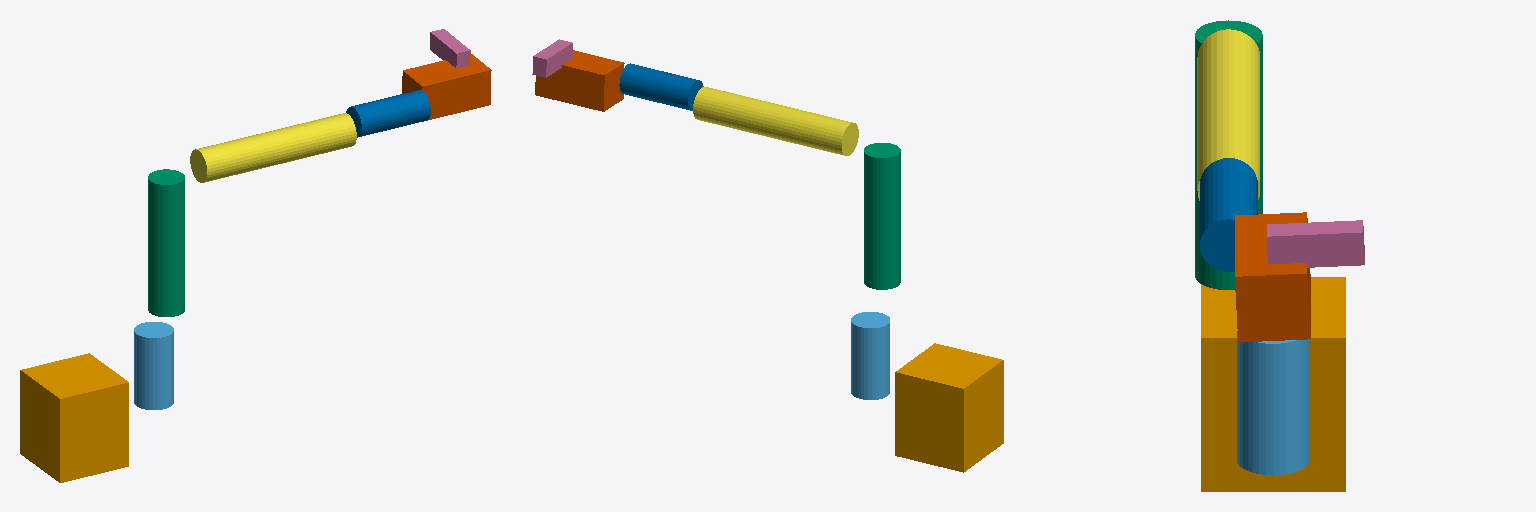
URDF robot description (so101_sim):
<?xml version="1.0" encoding="utf-8"?>
<!-- Simplified SO-101 URDF for PyBullet simulation.
     Uses primitive collision/visual shapes only — no mesh files required.
     Kinematic parameters (joint origins, axes, limits) match so101.urdf exactly.
     Inertia parameters are simplified approximations for simulation.
-->
<robot name="so101_sim">

  <!-- base_link: fixed to world -->
  <link name="base_link">
    <inertial>
      <origin xyz="0.014 0 0.033" rpy="0 0 0"/>
      <mass value="0.147"/>
      <inertia ixx="0.000115" ixy="0" ixz="0" iyy="0.000136" iyz="0" izz="0.000130"/>
    </inertial>
    <visual>
      <origin xyz="0 0 0.035" rpy="0 0 0"/>
      <geometry><box size="0.06 0.06 0.07"/></geometry>
    </visual>
    <collision>
      <origin xyz="0 0 0.035" rpy="0 0 0"/>
      <geometry><box size="0.06 0.06 0.07"/></geometry>
    </collision>
  </link>

  <!-- shoulder_link -->
  <link name="shoulder_link">
    <inertial>
      <origin xyz="-0.031 0 -0.025" rpy="0 0 0"/>
      <mass value="0.100"/>
      <inertia ixx="8.4e-05" ixy="0" ixz="0" iyy="8.1e-05" iyz="0" izz="2.4e-05"/>
    </inertial>
    <visual>
      <origin xyz="-0.030 0 0" rpy="0 0 0"/>
      <geometry><cylinder radius="0.015" length="0.06"/></geometry>
    </visual>
    <collision>
      <origin xyz="-0.030 0 0" rpy="0 0 0"/>
      <geometry><cylinder radius="0.015" length="0.06"/></geometry>
    </collision>
  </link>

  <!-- Joint from base to shoulder (shoulder_pan) -->
  <joint name="shoulder_pan" type="revolute">
    <origin xyz="0.0388 0 0.0624" rpy="3.14159 0 -3.14159"/>
    <parent link="base_link"/>
    <child link="shoulder_link"/>
    <axis xyz="0 0 1"/>
    <limit effort="10" velocity="10" lower="-1.91986" upper="1.91986"/>
  </joint>

  <!-- upper_arm_link -->
  <link name="upper_arm_link">
    <inertial>
      <origin xyz="-0.090 -0.008 0.018" rpy="0 0 0"/>
      <mass value="0.103"/>
      <inertia ixx="4.1e-05" ixy="0" ixz="0" iyy="0.000147" iyz="0" izz="0.000142"/>
    </inertial>
    <visual>
      <origin xyz="-0.055 0 0" rpy="0 1.5708 0"/>
      <geometry><cylinder radius="0.014" length="0.11"/></geometry>
    </visual>
    <collision>
      <origin xyz="-0.055 0 0" rpy="0 1.5708 0"/>
      <geometry><cylinder radius="0.014" length="0.11"/></geometry>
    </collision>
  </link>

  <!-- Joint from shoulder to upper_arm (shoulder_lift) -->
  <joint name="shoulder_lift" type="revolute">
    <origin xyz="-0.0304 -0.0183 -0.0542" rpy="-1.5708 -1.5708 0"/>
    <parent link="shoulder_link"/>
    <child link="upper_arm_link"/>
    <axis xyz="0 0 1"/>
    <limit effort="10" velocity="10" lower="-1.74533" upper="1.74533"/>
  </joint>

  <!-- lower_arm_link -->
  <link name="lower_arm_link">
    <inertial>
      <origin xyz="-0.098 0.003 0.018" rpy="0 0 0"/>
      <mass value="0.104"/>
      <inertia ixx="2.9e-05" ixy="0" ixz="0" iyy="0.000160" iyz="0" izz="0.000145"/>
    </inertial>
    <visual>
      <origin xyz="-0.065 0 0" rpy="0 1.5708 0"/>
      <geometry><cylinder radius="0.013" length="0.13"/></geometry>
    </visual>
    <collision>
      <origin xyz="-0.065 0 0" rpy="0 1.5708 0"/>
      <geometry><cylinder radius="0.013" length="0.13"/></geometry>
    </collision>
  </link>

  <!-- Joint from upper_arm to lower_arm (elbow_flex) -->
  <joint name="elbow_flex" type="revolute">
    <origin xyz="-0.11257 -0.028 0" rpy="0 0 1.5708"/>
    <parent link="upper_arm_link"/>
    <child link="lower_arm_link"/>
    <axis xyz="0 0 1"/>
    <limit effort="10" velocity="10" lower="-1.69" upper="1.69"/>
  </joint>

  <!-- wrist_link -->
  <link name="wrist_link">
    <inertial>
      <origin xyz="0 -0.039 0.028" rpy="0 0 0"/>
      <mass value="0.079"/>
      <inertia ixx="3.7e-05" ixy="0" ixz="0" iyy="2.5e-05" iyz="0" izz="2.1e-05"/>
    </inertial>
    <visual>
      <origin xyz="0 -0.03 0" rpy="1.5708 0 0"/>
      <geometry><cylinder radius="0.012" length="0.06"/></geometry>
    </visual>
    <collision>
      <origin xyz="0 -0.03 0" rpy="1.5708 0 0"/>
      <geometry><cylinder radius="0.012" length="0.06"/></geometry>
    </collision>
  </link>

  <!-- Joint from lower_arm to wrist (wrist_flex) -->
  <joint name="wrist_flex" type="revolute">
    <origin xyz="-0.1349 0.0052 0" rpy="0 0 -1.5708"/>
    <parent link="lower_arm_link"/>
    <child link="wrist_link"/>
    <axis xyz="0 0 1"/>
    <limit effort="10" velocity="10" lower="-1.65806" upper="1.65806"/>
  </joint>

  <!-- gripper_link -->
  <link name="gripper_link">
    <inertial>
      <origin xyz="0 0 -0.025" rpy="0 0 0"/>
      <mass value="0.087"/>
      <inertia ixx="2.8e-05" ixy="0" ixz="0" iyy="4.3e-05" iyz="0" izz="3.5e-05"/>
    </inertial>
    <visual>
      <origin xyz="0 0 -0.03" rpy="0 0 0"/>
      <geometry><box size="0.03 0.03 0.06"/></geometry>
    </visual>
    <collision>
      <origin xyz="0 0 -0.03" rpy="0 0 0"/>
      <geometry><box size="0.03 0.03 0.06"/></geometry>
    </collision>
  </link>

  <!-- Joint from wrist to gripper (wrist_roll) -->
  <joint name="wrist_roll" type="revolute">
    <origin xyz="0 -0.0611 0.0181" rpy="1.5708 0.0487 3.14159"/>
    <parent link="wrist_link"/>
    <child link="gripper_link"/>
    <axis xyz="0 0 1"/>
    <limit effort="10" velocity="10" lower="-2.74385" upper="2.84121"/>
  </joint>

  <!-- moving_jaw_link (gripper finger) -->
  <link name="moving_jaw_link">
    <inertial>
      <origin xyz="-0.002 -0.030 0.019" rpy="0 0 0"/>
      <mass value="0.012"/>
      <inertia ixx="6.6e-06" ixy="0" ixz="0" iyy="1.9e-06" iyz="0" izz="5.3e-06"/>
    </inertial>
    <visual>
      <origin xyz="0 -0.02 0" rpy="1.5708 0 0"/>
      <geometry><box size="0.015 0.04 0.012"/></geometry>
    </visual>
    <collision>
      <origin xyz="0 -0.02 0" rpy="1.5708 0 0"/>
      <geometry><box size="0.015 0.04 0.012"/></geometry>
    </collision>
  </link>

  <!-- Joint: gripper rotation -->
  <joint name="gripper" type="revolute">
    <origin xyz="0.0202 0.0188 -0.0234" rpy="1.5708 0 0"/>
    <parent link="gripper_link"/>
    <child link="moving_jaw_link"/>
    <axis xyz="0 0 1"/>
    <limit effort="10" velocity="10" lower="-0.174533" upper="1.74533"/>
  </joint>

  <!-- gripper_frame_link (end-effector tip reference) -->
  <link name="gripper_frame_link">
    <inertial>
      <origin xyz="0 0 0" rpy="0 0 0"/>
      <mass value="1e-9"/>
      <inertia ixx="0" ixy="0" ixz="0" iyy="0" iyz="0" izz="0"/>
    </inertial>
  </link>

  <joint name="gripper_frame_joint" type="fixed">
    <origin xyz="-0.0079 -0.000218 -0.0981" rpy="0 3.14159 0"/>
    <parent link="gripper_link"/>
    <child link="gripper_frame_link"/>
    <axis xyz="0 0 0"/>
  </joint>

</robot>

--- Facts derived from the render (not from the file) ---
Views: 3 orthographic renders of the robot side by side, from view 1: azimuth 30°, elevation 25°; view 2: azimuth 150°, elevation 25°; view 3: azimuth 270°, elevation 25°.
Robot: so101_sim — 8 links, 7 joints (6 revolute, 1 fixed); root link base_link; default pose: all joints at 0.
Visible links, largest first — view 1: base_link, lower_arm_link, upper_arm_link, gripper_link, shoulder_link, wrist_link, moving_jaw_link; view 2: base_link, lower_arm_link, upper_arm_link, gripper_link, shoulder_link, wrist_link, moving_jaw_link; view 3: base_link, shoulder_link, lower_arm_link, gripper_link, wrist_link, moving_jaw_link, upper_arm_link.
Link boxes in pixels (x1,y1,x2,y2): base_link: [20, 353, 128, 482]; lower_arm_link: [190, 113, 356, 182]; upper_arm_link: [148, 169, 184, 316]; gripper_link: [402, 54, 491, 120]; shoulder_link: [134, 322, 173, 409]; wrist_link: [346, 90, 430, 137]; moving_jaw_link: [430, 29, 470, 68]; base_link: [895, 343, 1003, 472]; lower_arm_link: [693, 87, 858, 155]; upper_arm_link: [864, 143, 900, 289]; gripper_link: [535, 50, 624, 111]; shoulder_link: [851, 312, 889, 399]; wrist_link: [619, 63, 703, 110]; moving_jaw_link: [532, 39, 572, 77]; base_link: [1201, 277, 1345, 491]; shoulder_link: [1237, 329, 1308, 474]; lower_arm_link: [1197, 29, 1259, 200]; gripper_link: [1235, 212, 1310, 342]; wrist_link: [1200, 158, 1257, 271]; moving_jaw_link: [1267, 220, 1364, 267]; upper_arm_link: [1195, 20, 1262, 289].
Bounding box of the posed robot: 0.3832 × 0.0702 × 0.2639 m (x, y, z).
Geometry: primitives only (box / cylinder / sphere), no mesh files.
